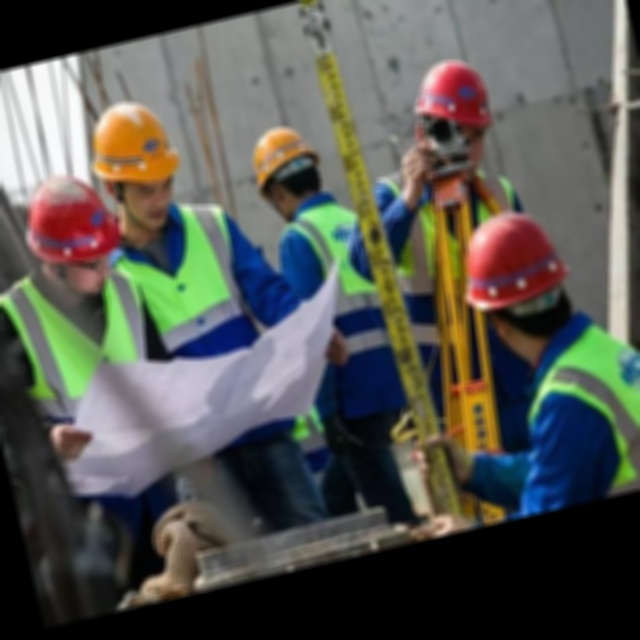Con_Casco: (79, 91, 191, 232)
Con_Chaleco: (508, 322, 640, 499), (0, 257, 152, 405)
